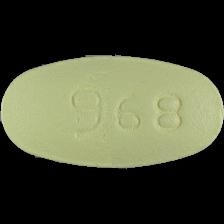63187-347: (0, 0, 224, 224)
